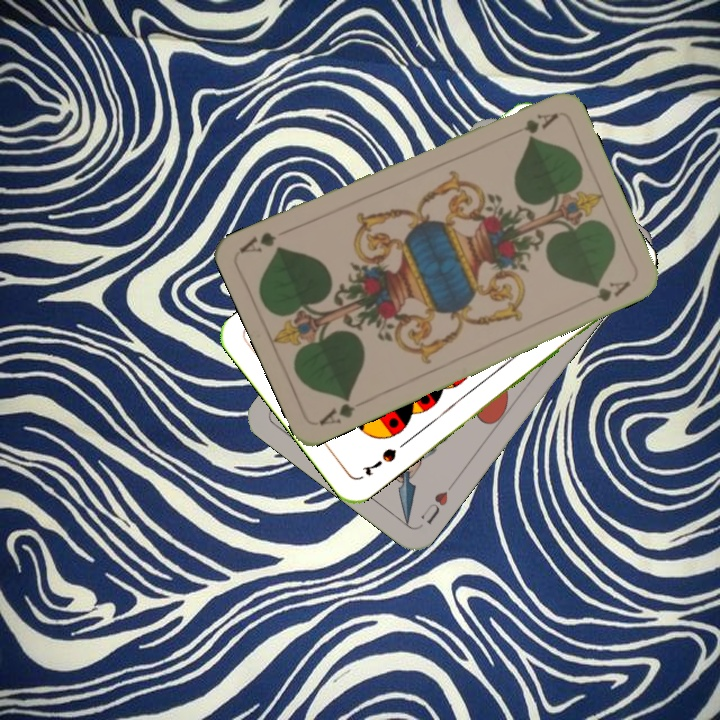GA: (315, 392, 358, 429), (520, 108, 561, 136)
HU: (416, 486, 451, 527)
S7: (358, 444, 399, 478)
